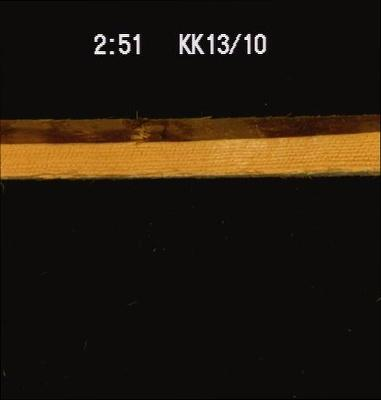wave: (0, 110, 379, 144)
